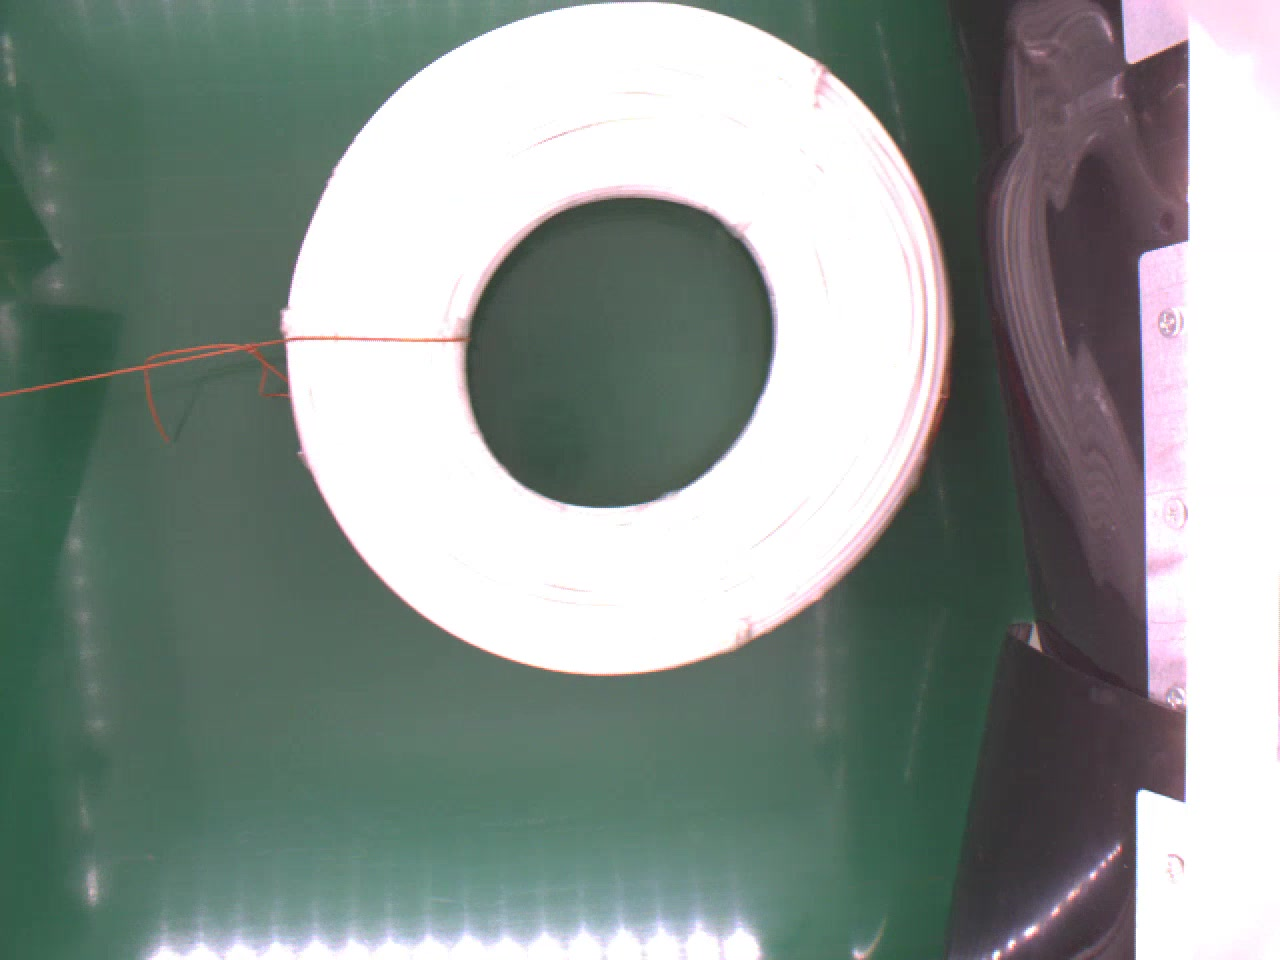white: (283, 4, 949, 673)
